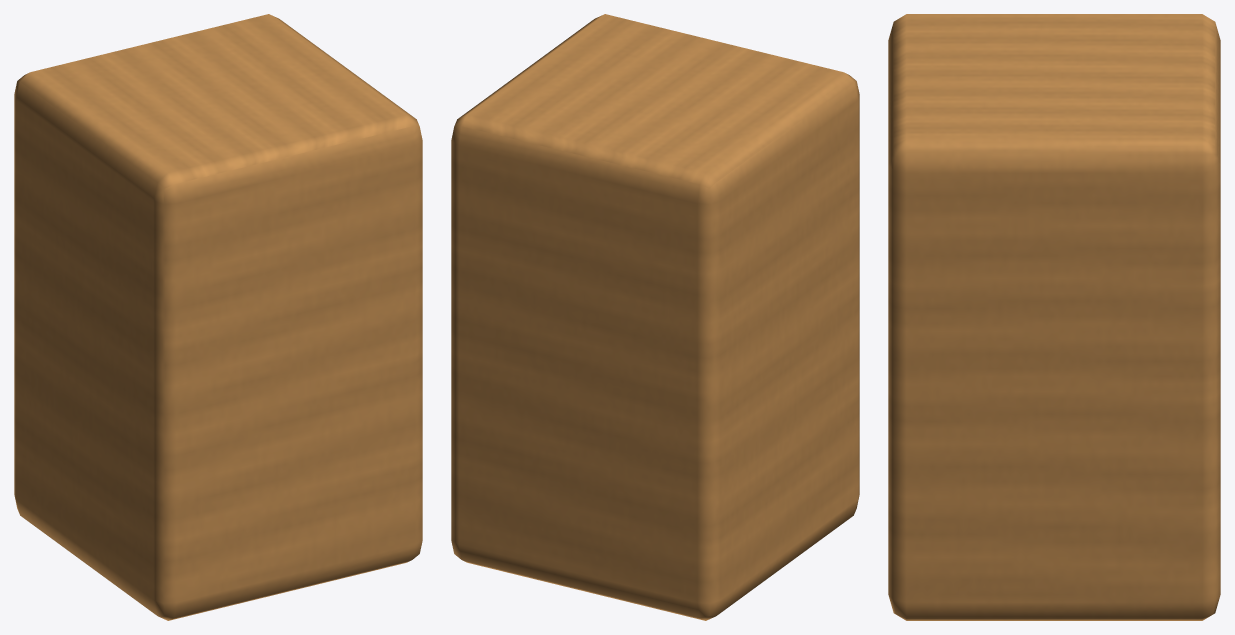
Rendered from pillar_beech.glb.
3 renders of one model, left to right at view 1: azimuth 30°, elevation 25°; view 2: azimuth 150°, elevation 25°; view 3: azimuth 270°, elevation 25°, orthographic. The views are drawn at different scales.
Visible parts, largest first — view 1: Block.004; view 2: Block.004; view 3: Block.004.
Part boxes in pixels (x1,y1,x2,y2): Block.004: [14, 14, 422, 620]; Block.004: [451, 14, 859, 620]; Block.004: [888, 14, 1220, 620].
Bounding box in the file's own units: 1 × 1.6 × 1.
1 material, 1 textured.
